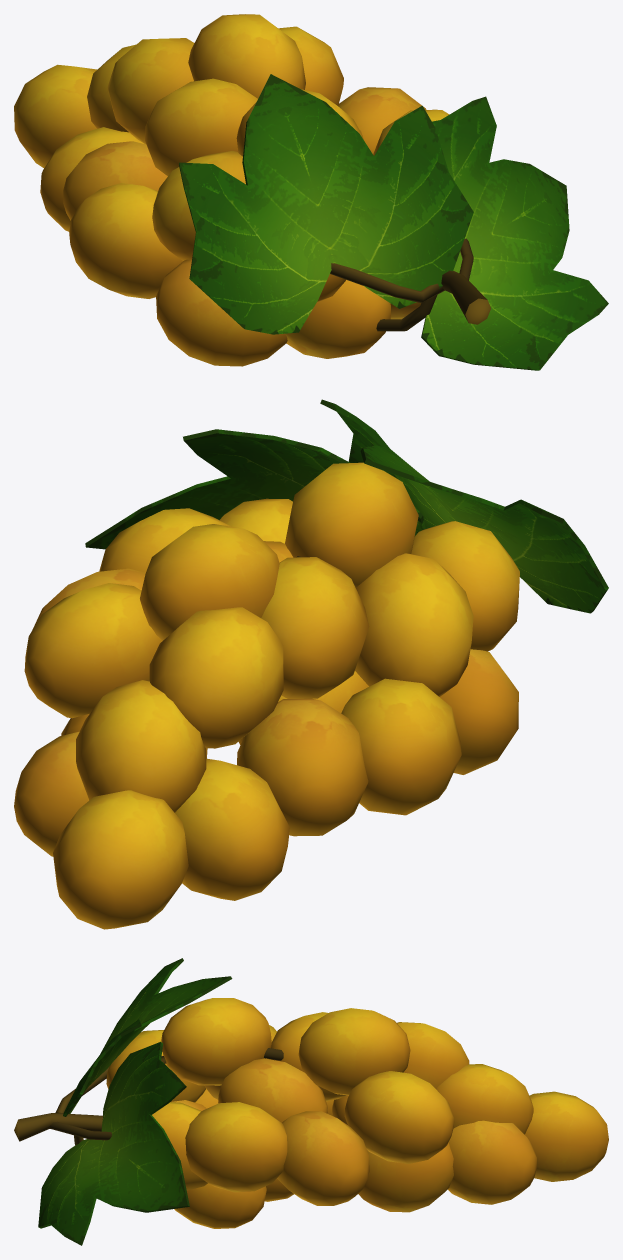
The model's file is Grapes_Yellow.fbx.
3 renders of one model, top to bottom at view 1: azimuth 30°, elevation 25°; view 2: azimuth 150°, elevation 25°; view 3: azimuth 270°, elevation 25°, orthographic. The views are drawn at different scales.
Parts seen in each view (by area): view 1: Grapes_Yellow; view 2: Grapes_Yellow; view 3: Grapes_Yellow.
Boxes of the visible parts, box(x1,y1,x2,y2) form: Grapes_Yellow: box(14, 14, 608, 370); Grapes_Yellow: box(14, 399, 608, 929); Grapes_Yellow: box(14, 958, 608, 1245).
Bounding box in the file's own units: 47.93 × 29.05 × 75.13.
